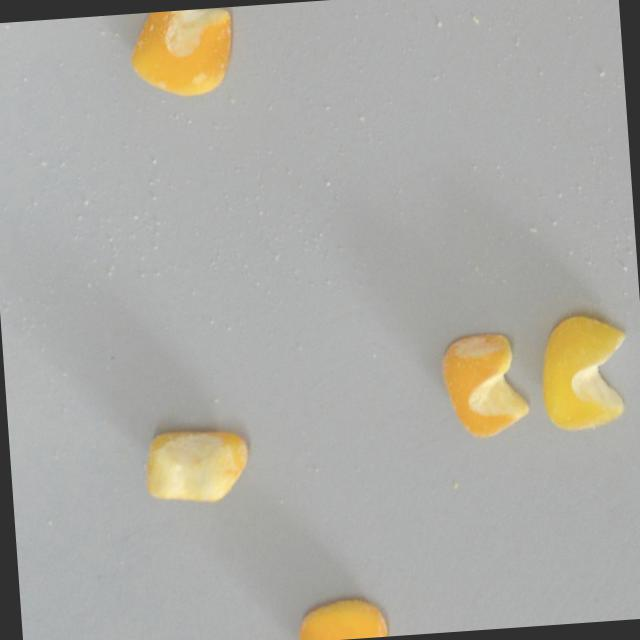pelicula: (533, 309, 631, 435), (437, 329, 530, 443), (125, 6, 235, 101), (140, 426, 251, 508)
